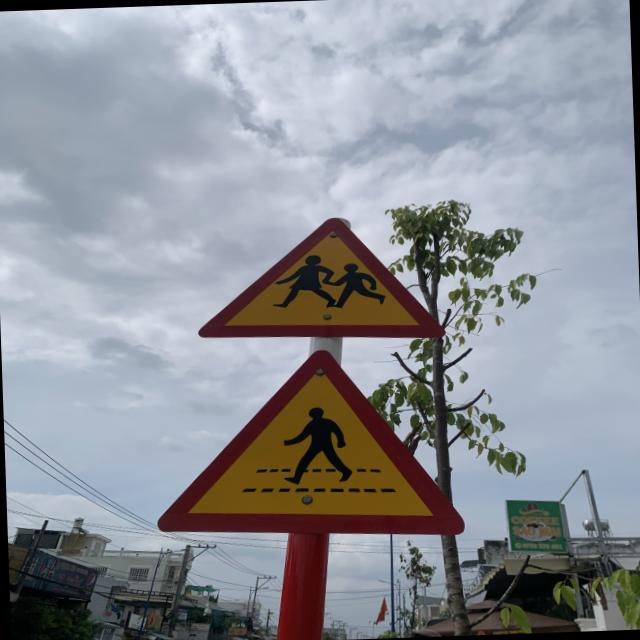Duong_Nguoi_Di_Bo_Sang_Ngang: (152, 343, 464, 544)
Vong_Xuyen: (194, 213, 446, 345)
